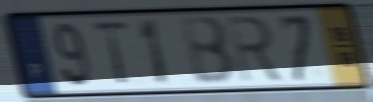1: (135, 16, 170, 88)
7: (278, 13, 314, 83)
9: (51, 21, 92, 89)
B: (178, 14, 239, 87)
R: (224, 14, 286, 86)
T: (90, 18, 131, 88)
